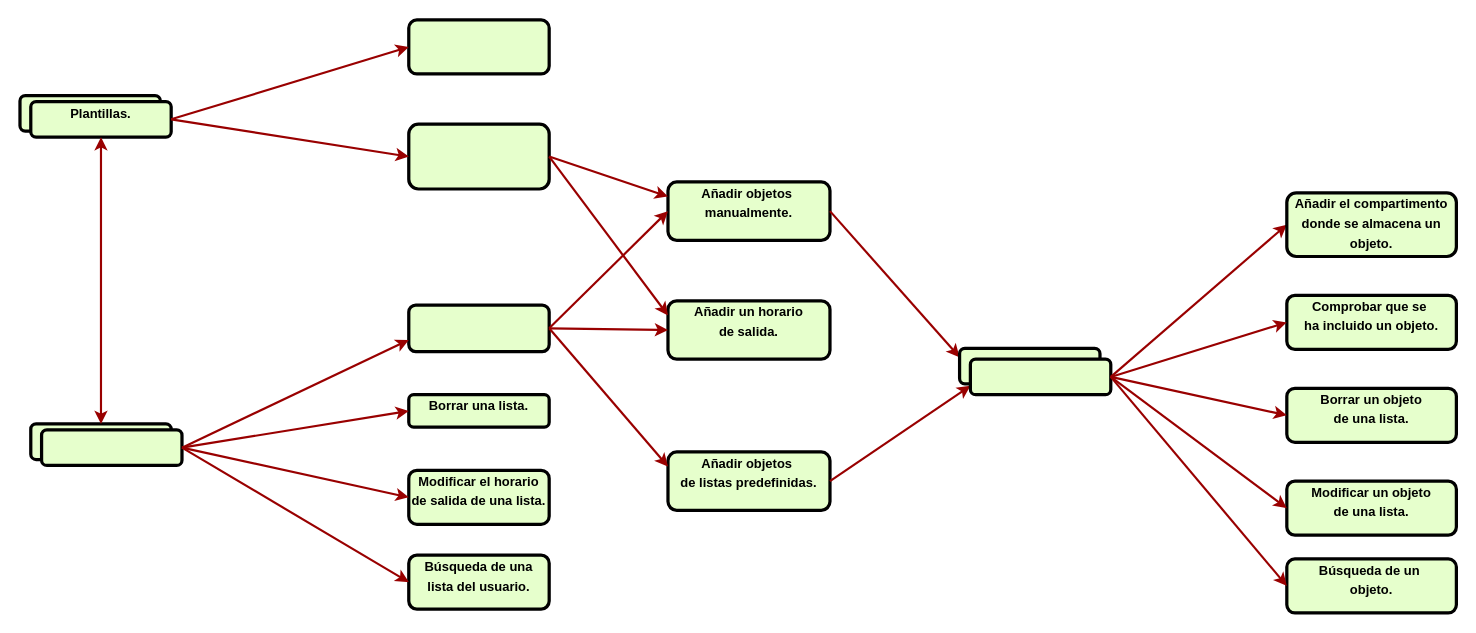
Some shapes in this 1476 by 633 pixel diagram are drawn without their labels. The shapes that lost their labels are listed below. From the top down, each one's centre as x and y in pixels, then its label:
(x=478, y=46): Búsqueda de una determinada plantilla.
(x=478, y=156): Crear una nueva lista a partir de una lista predefinida.
(x=478, y=328): Crear una nueva lista.
(x=1040, y=376): Objetos.
(x=111, y=447): Listas del usuario
